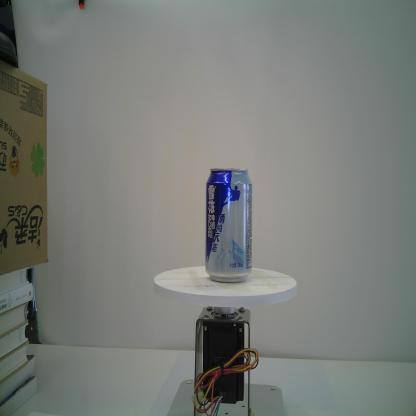Alcohol: (204, 167, 253, 284)
